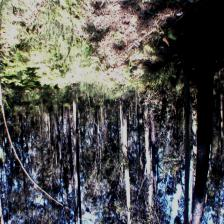trunktrack_idkeyframe: (196, 58, 216, 165), (182, 64, 190, 167)
